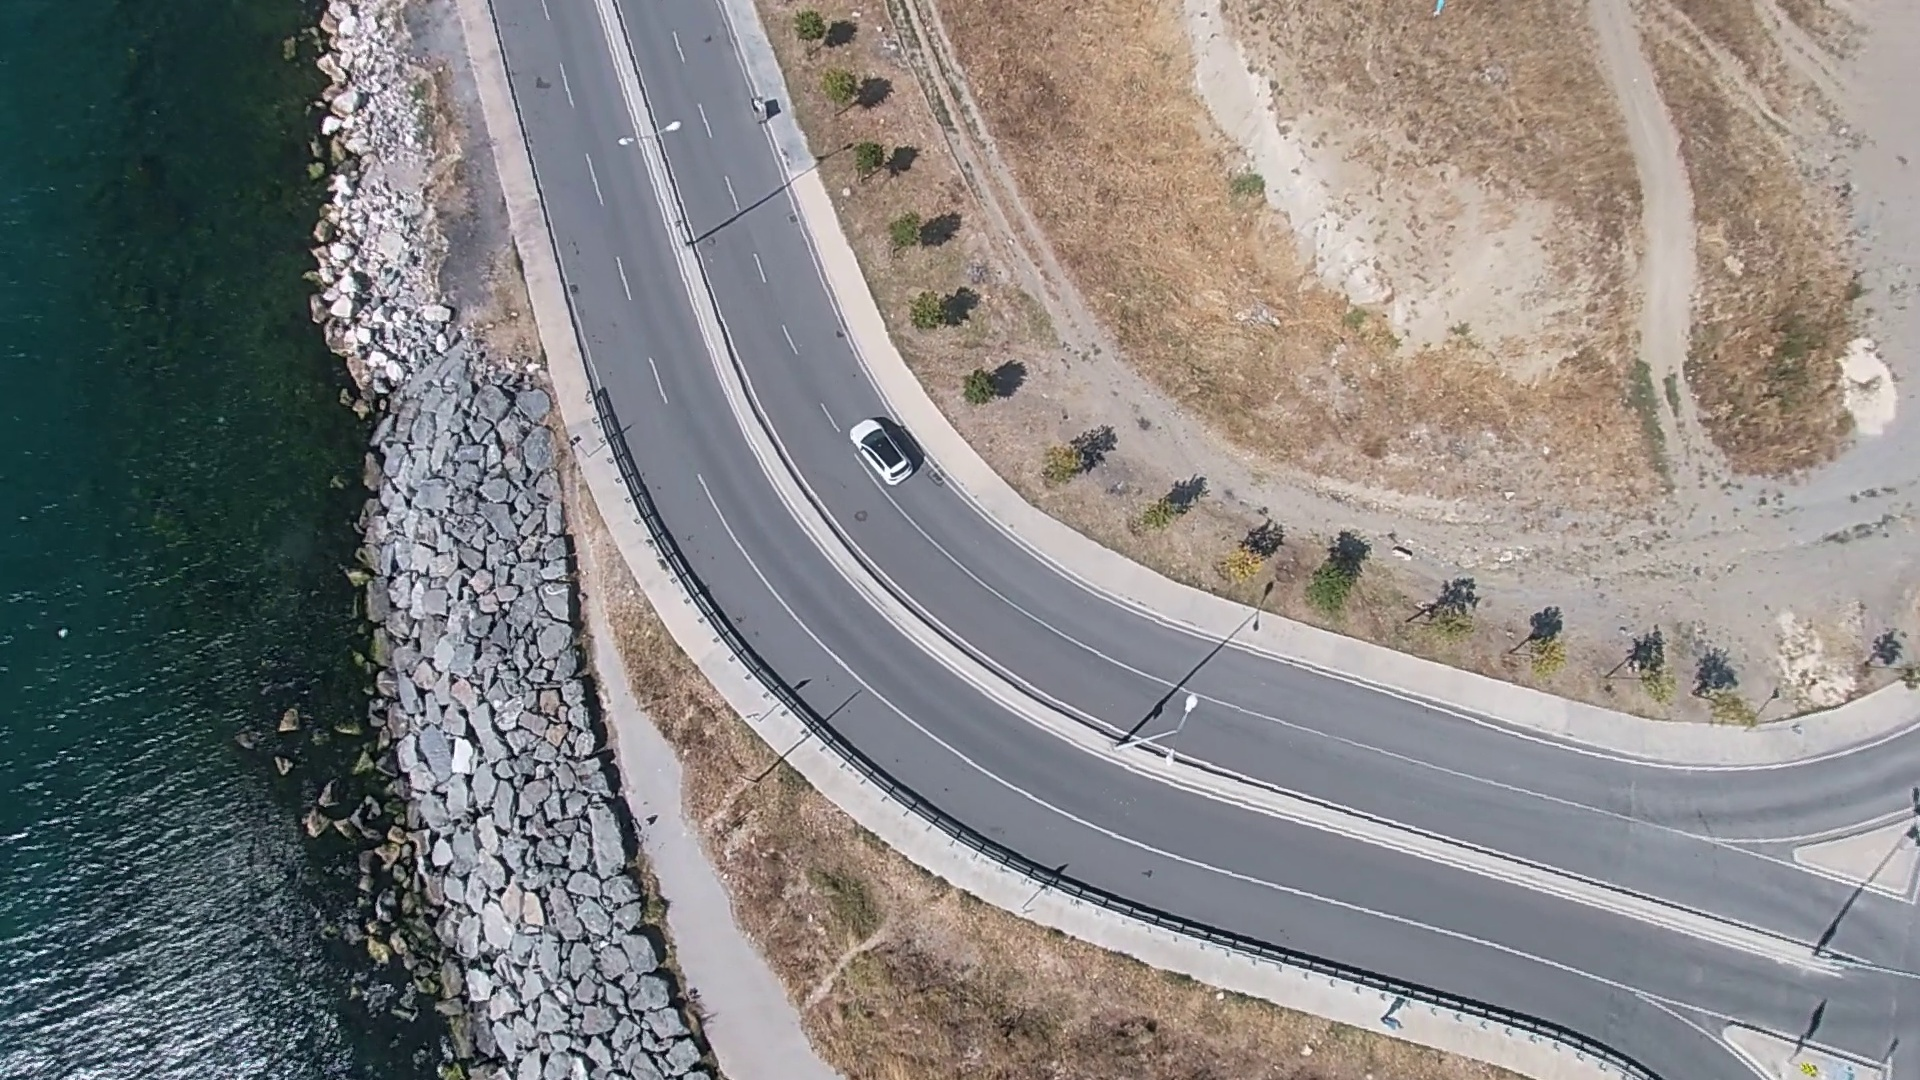araba: (849, 414, 920, 488)
